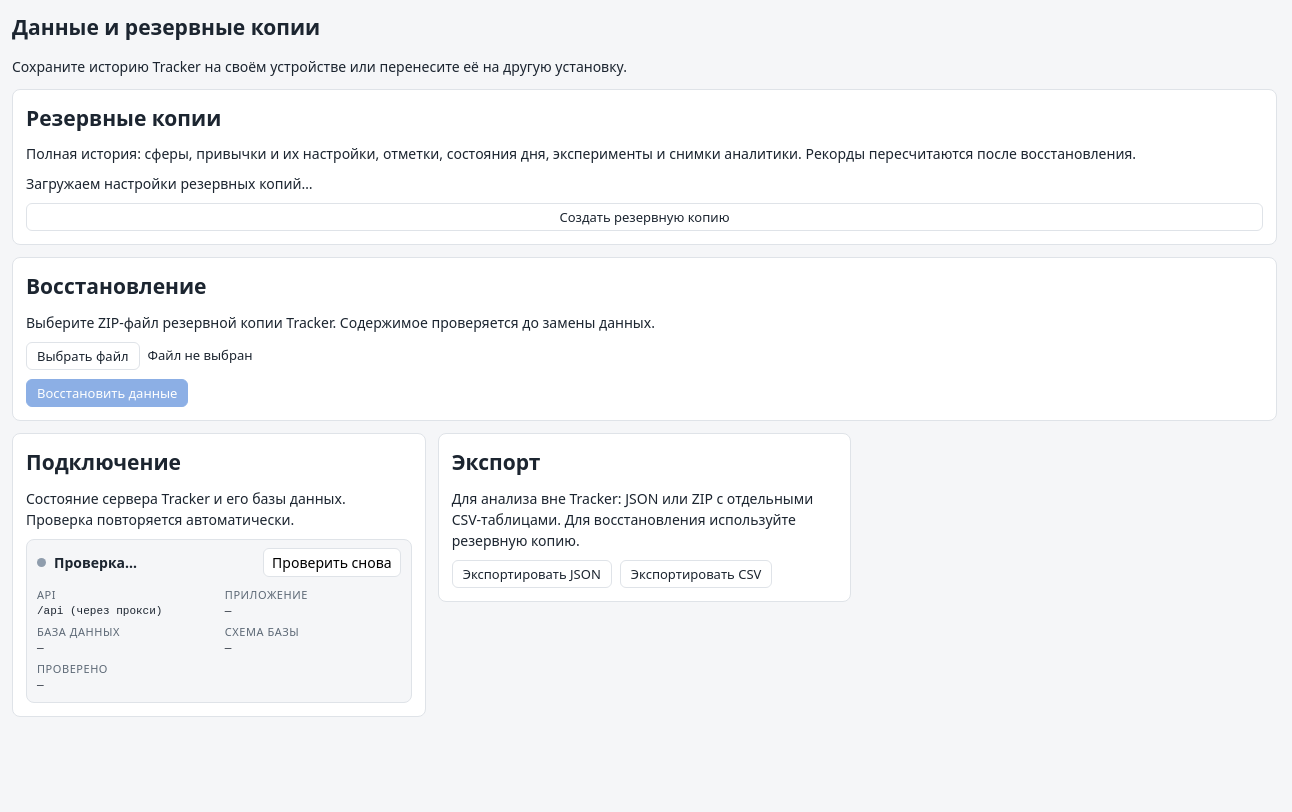
Test: Данные и резервные копии › downloads via Экспортировать CSV
Click the button "Экспортировать CSV": click(696, 574) [620,560,772,588]
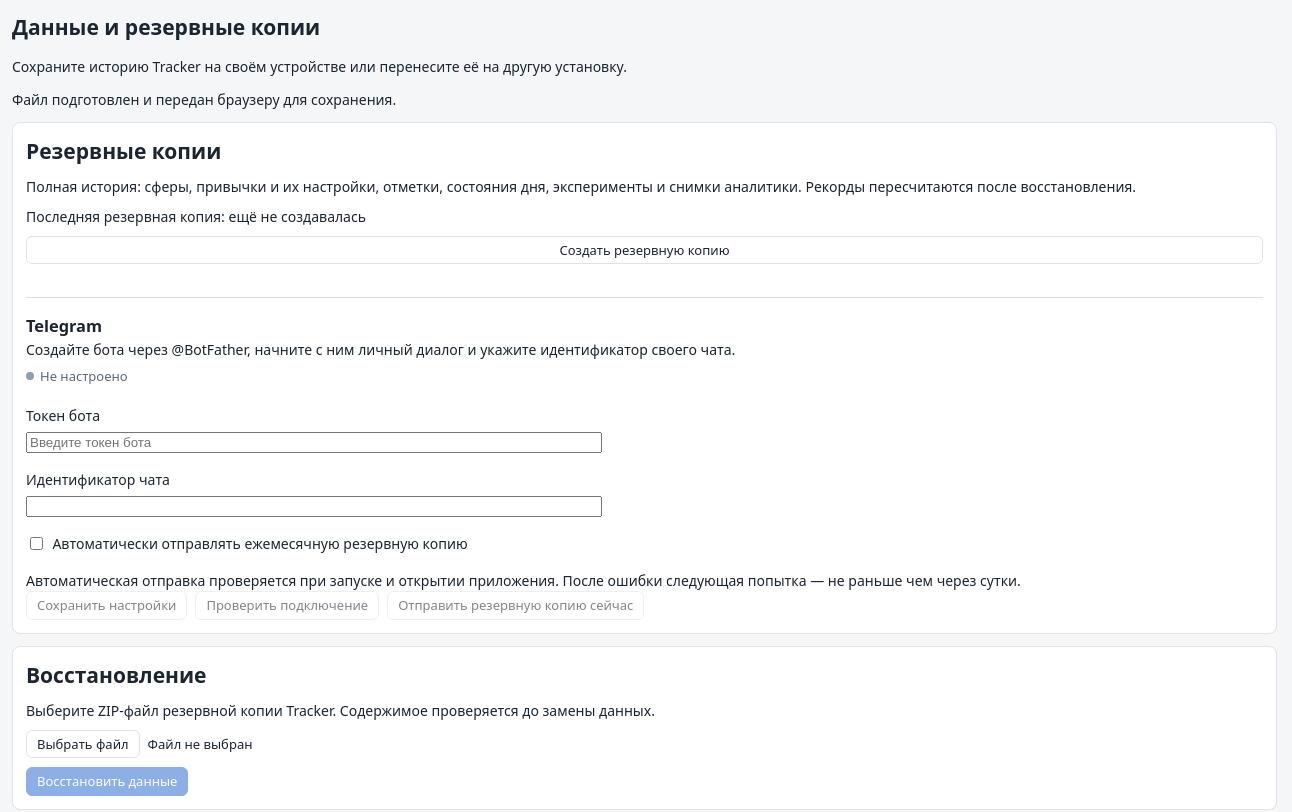
Check: the message shows "передан браузеру", box [12,90,396,108]
